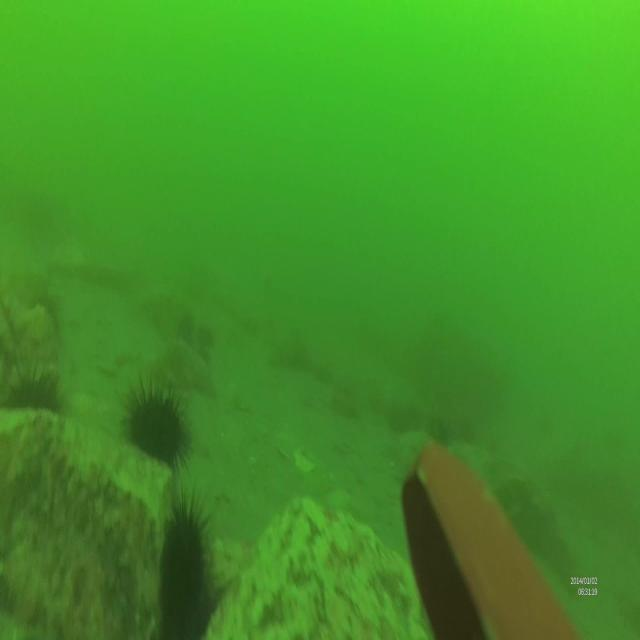echinus: (157, 497, 214, 630), (121, 377, 195, 473), (4, 360, 66, 447)
